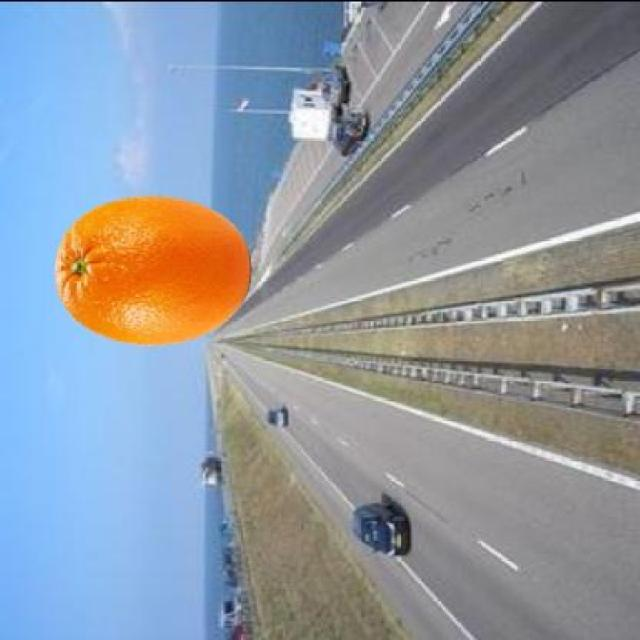Orange: (52, 194, 251, 346)
